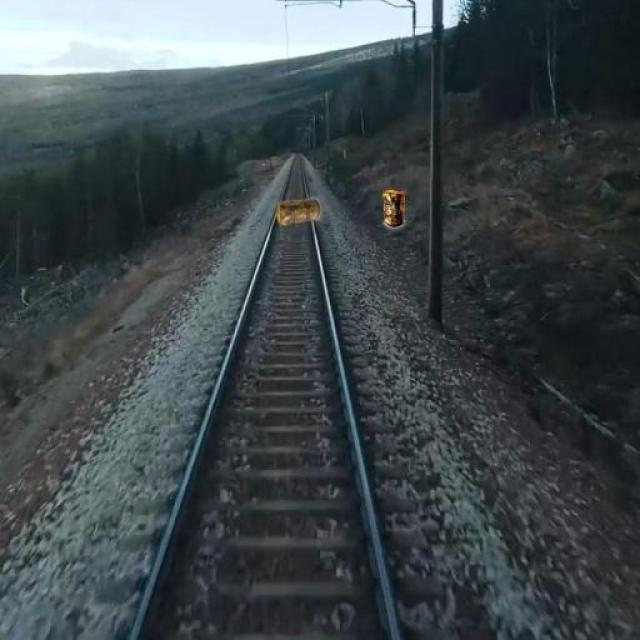Other_objects: (275, 189, 332, 232), (376, 184, 416, 240)
